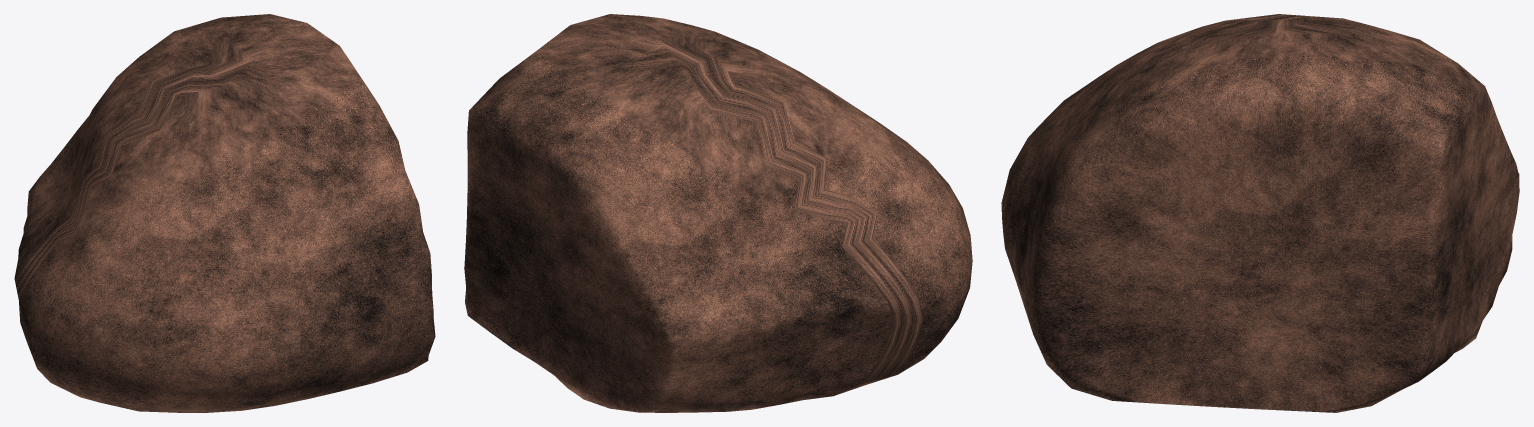
File: rock_1.dae
The picture shows the model from 3 angles, left to right: view 1: azimuth 30°, elevation 25°; view 2: azimuth 150°, elevation 25°; view 3: azimuth 270°, elevation 25°; orthographic projection. The views are drawn at different scales.
Parts seen in each view (by area): view 1: rock_1-node; view 2: rock_1-node; view 3: rock_1-node.
Part boxes in pixels (x1=…): rock_1-node: x1=14, y1=14, x2=435, y2=412; rock_1-node: x1=464, y1=14, x2=972, y2=412; rock_1-node: x1=1001, y1=14, x2=1519, y2=412.
Bounding box in the file's own units: 1.51 × 1.58 × 1.07.
1 material, 1 textured.
